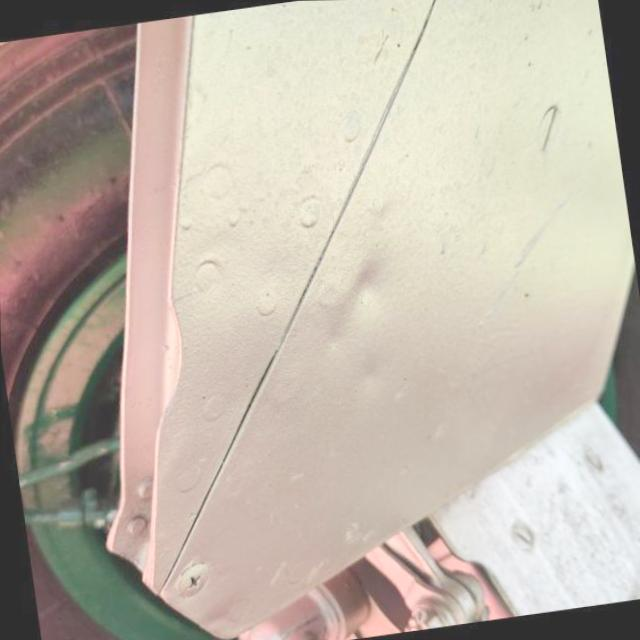dent: (311, 238, 398, 351), (140, 303, 208, 420)
